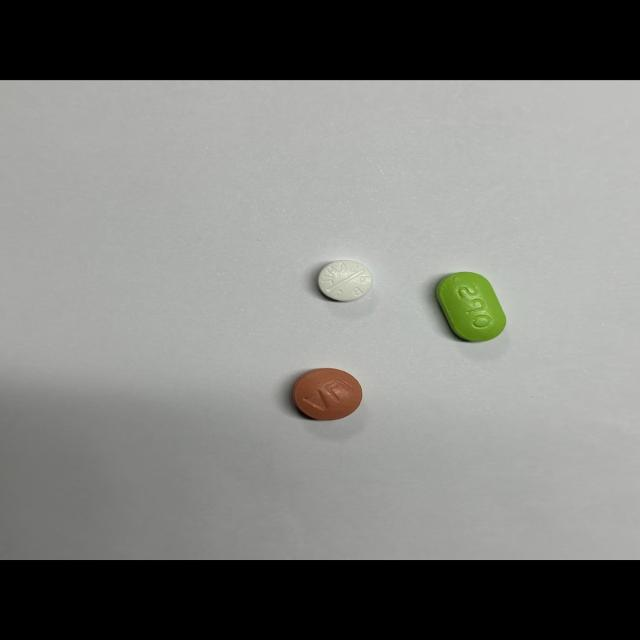Piller: (437, 272, 507, 341), (293, 369, 362, 420), (318, 260, 372, 301)
